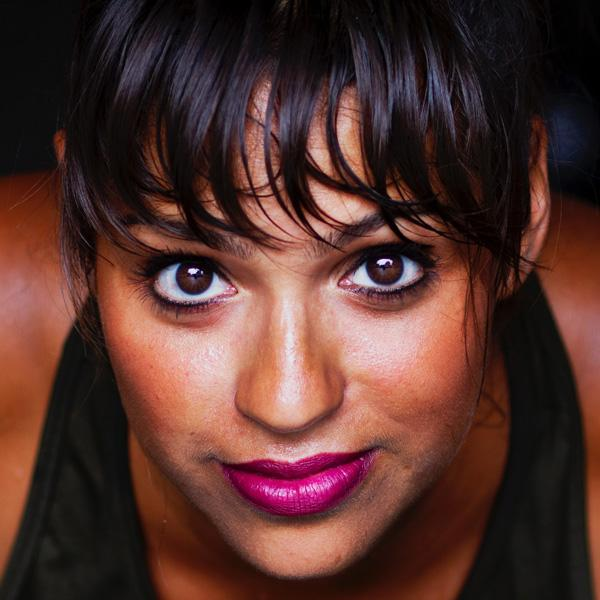Eyes: (325, 234, 444, 314), (129, 243, 242, 323)
